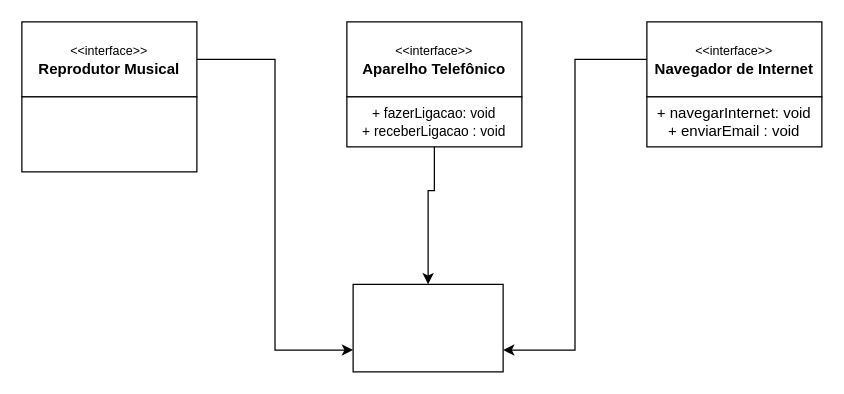
Some shapes in this 844 by 394 pixel diagram are drawn without their labels. Each missing label, with the box of its shape:
+navegarListaArtistas: void +ouvirMusica : void: (21, 96, 197, 172)
Aparelho Iphone: (352, 283, 503, 372)
